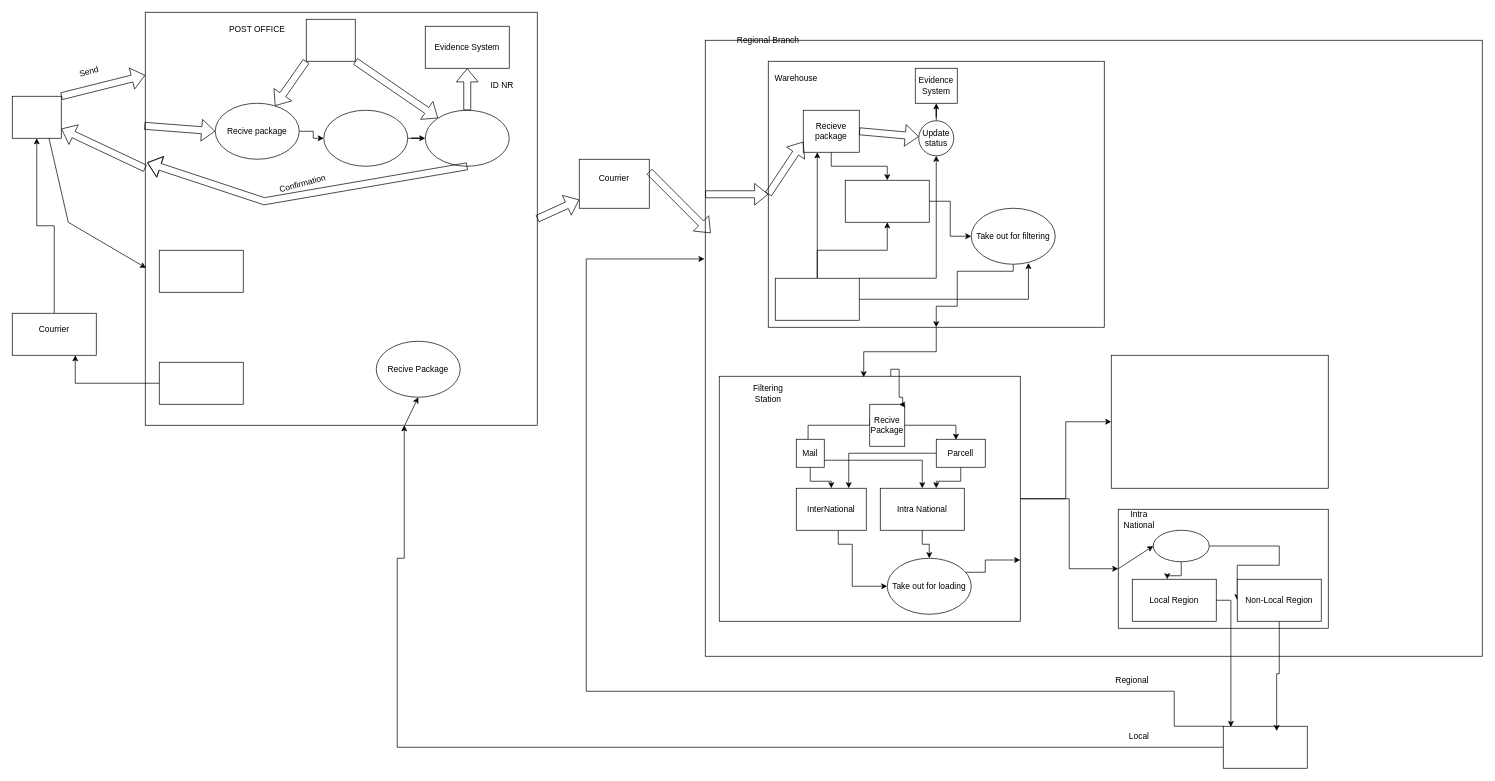
Some shapes in this 1495 by 781 pixel diagram are drawn without their labels. Each missing label, with the centre of its shape:
"Calculate cost" belongs at [365,138].
"Courier" belongs at [1265,747].
"Hand over Package" belongs at [201,271].
"Register" belongs at [467,138].
"Split Mail" belongs at [1181,546].
"Stocking" belongs at [887,201].
"User" belongs at [36,117].
"Warehouse Worker" belongs at [817,299].
"Worker" belongs at [330,40].
